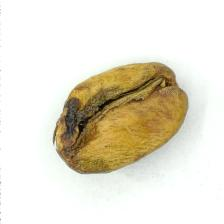NG: (53, 85, 117, 177)
